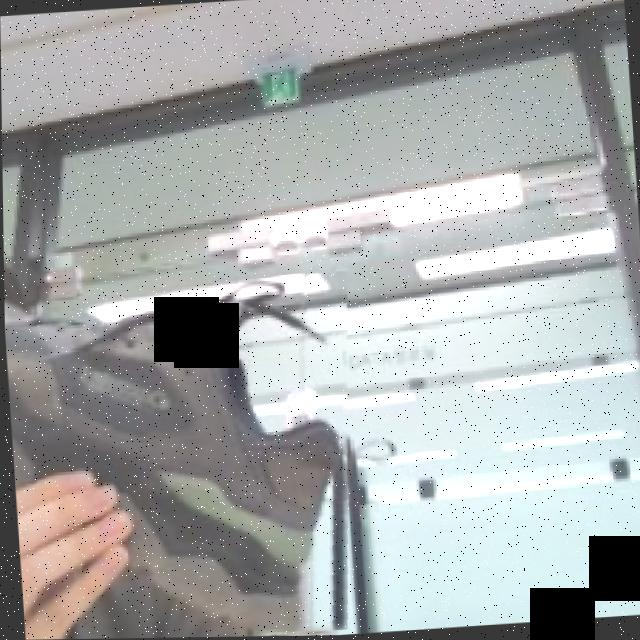shoe: (3, 271, 369, 640)
